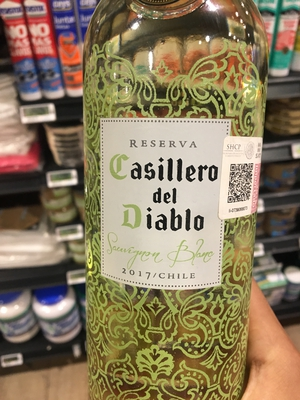casillero del diablo sauvignon blanc: (79, 8, 265, 400)
